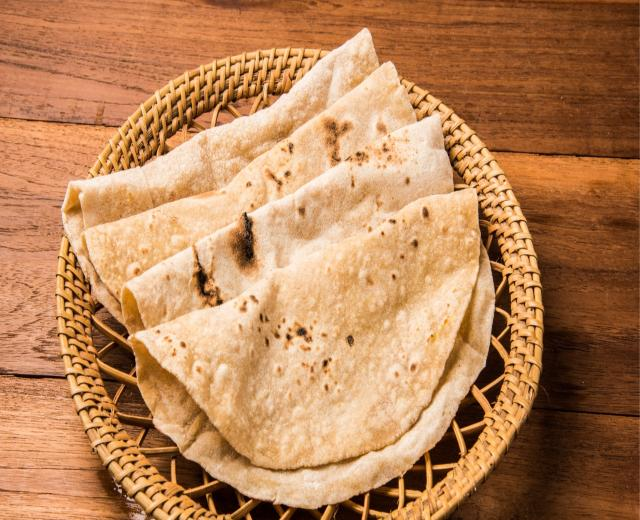chapati: (121, 118, 493, 507)
